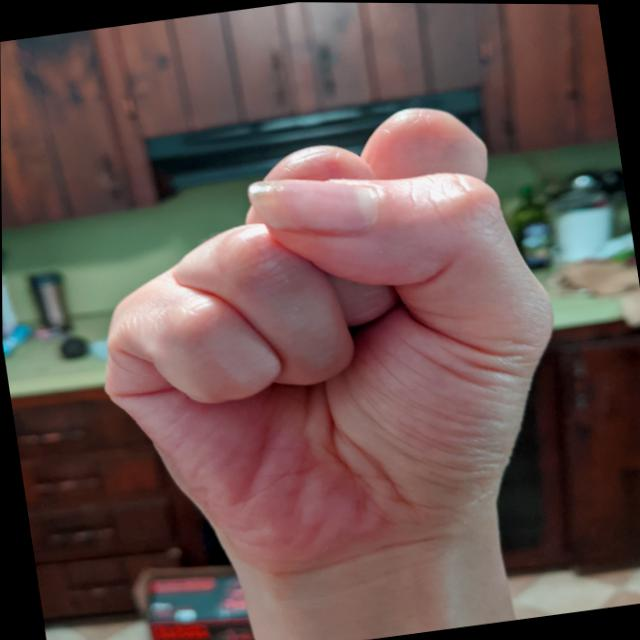S: (59, 81, 596, 616)
